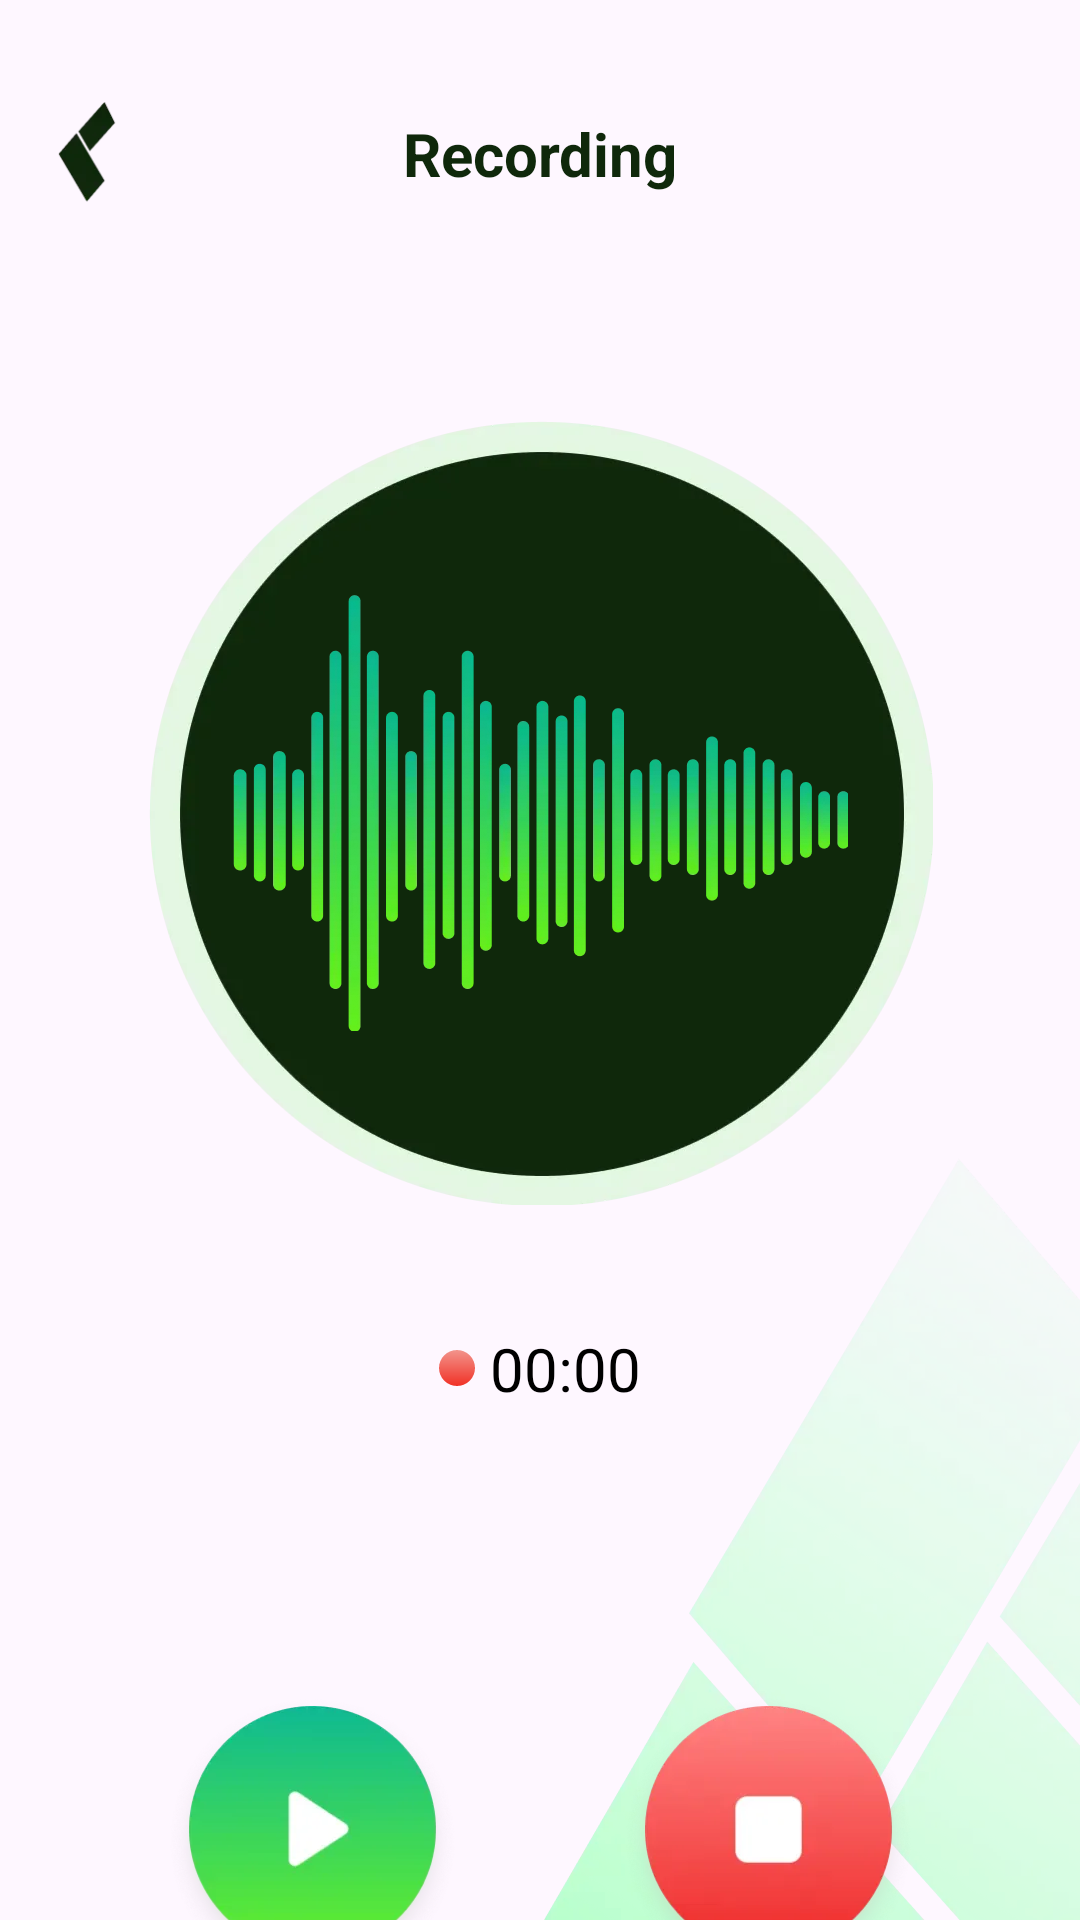

Point at icon controls on the screen. Image size 1080×1920, points as point (x, y).
back: point (87, 152)
